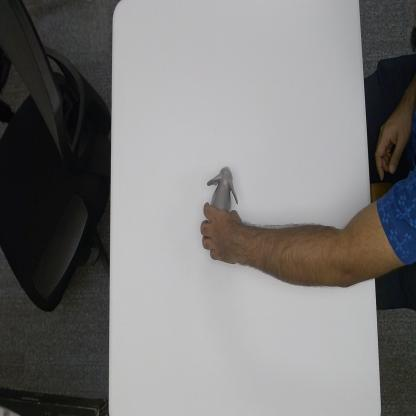Arm: (245, 211, 374, 290)
Elephant: (206, 163, 239, 212)
Hand: (199, 198, 244, 271)
